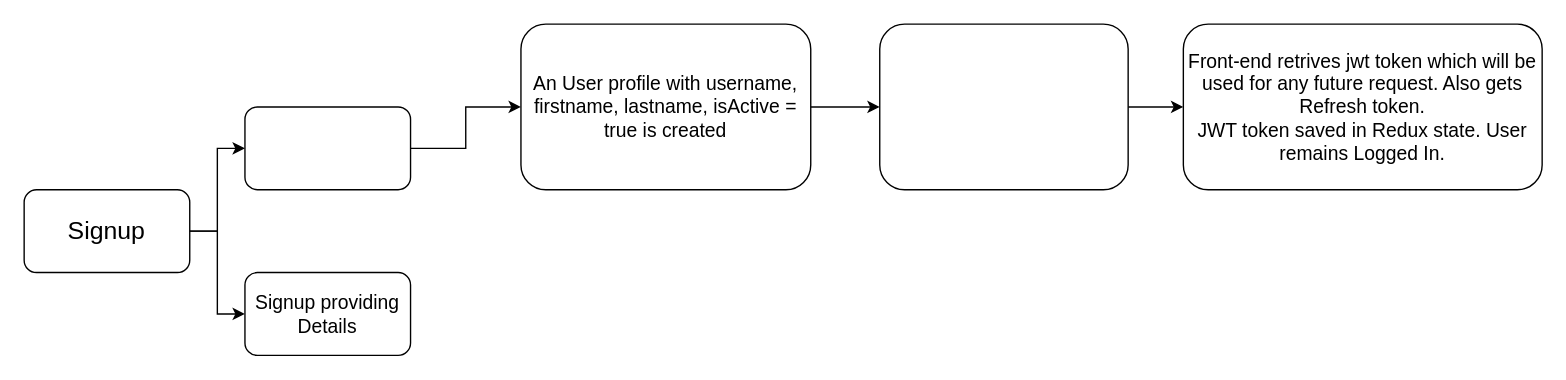
Image size: 1566x380. Some labels were removed from this diagram. Here are the shapes that lost their labels. From the top down, the centre of each, then its label:
(1003,106): User is sent to front-end with Secret JWT token as "auth_cookie" cookie
(327,148): Signup with Google
